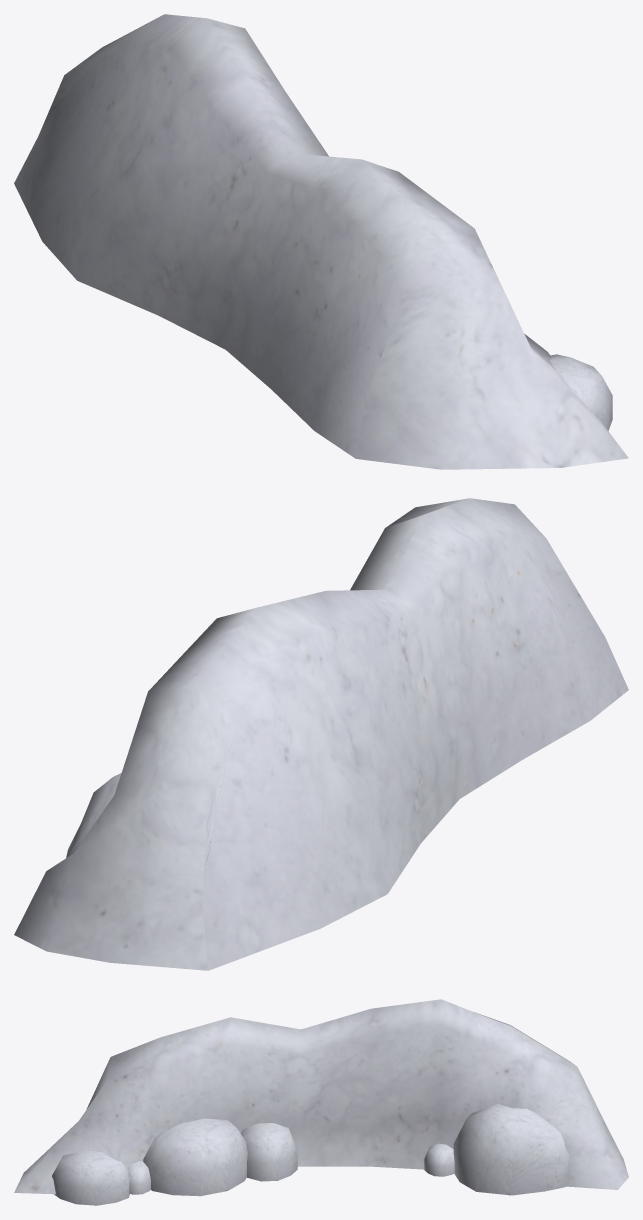
The model's file is snowWall.fbx.
3 views of the same model, one above another, from view 1: azimuth 30°, elevation 25°; view 2: azimuth 150°, elevation 25°; view 3: azimuth 270°, elevation 25° (orthographic). The views are drawn at different scales.
Parts seen in each view (by area): view 1: polySurface51; view 2: polySurface51; view 3: polySurface51.
Part boxes in pixels (left/top/right/bottom): polySurface51: left=14, top=14, right=628, bottom=469; polySurface51: left=14, top=498, right=628, bottom=970; polySurface51: left=14, top=999, right=628, bottom=1205.
Size of the model in its own units: 5.9 by 5.04 by 17.51.
